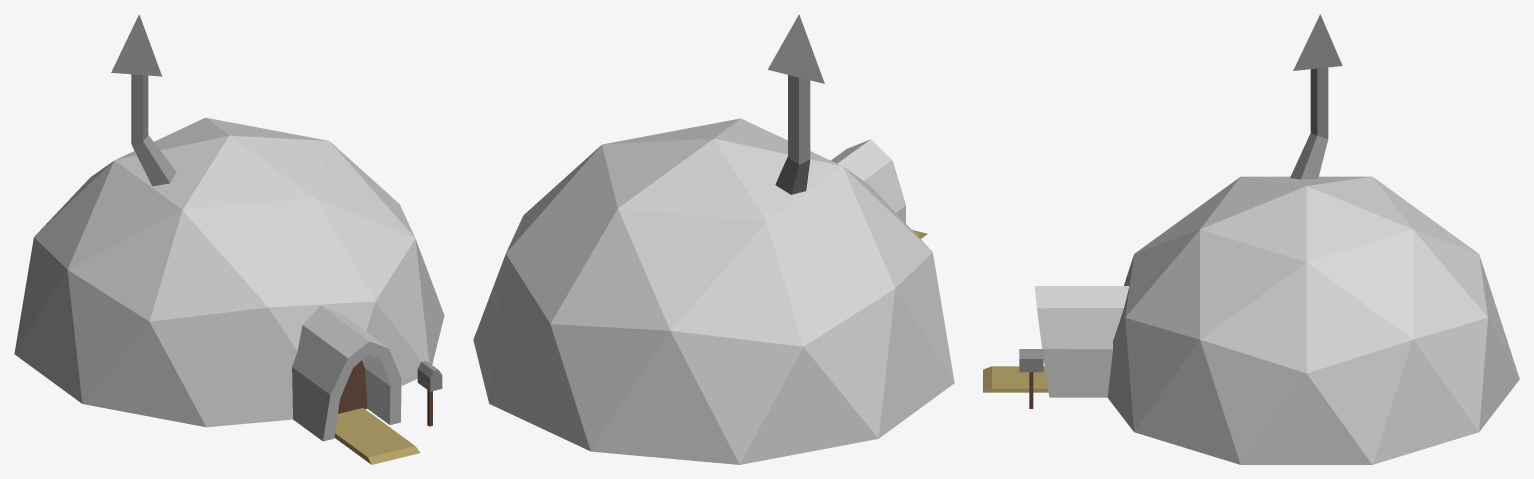
The model's file is Igloo.fbx.
The picture shows the model from 3 angles, left to right: view 1: azimuth 30°, elevation 25°; view 2: azimuth 150°, elevation 25°; view 3: azimuth 270°, elevation 25°; orthographic projection. The views are drawn at different scales.
Parts seen in each view (by area): view 1: Igloo, Mat, Mailbox; view 2: Igloo; view 3: Igloo, Mat, Mailbox.
Boxes of the visible parts, bbox=[...] form: Igloo: bbox=[14, 14, 444, 441]; Mat: bbox=[334, 408, 420, 464]; Mailbox: bbox=[417, 361, 442, 426]; Igloo: bbox=[473, 14, 954, 464]; Igloo: bbox=[1035, 14, 1519, 464]; Mat: bbox=[983, 366, 1048, 392]; Mailbox: bbox=[1019, 349, 1043, 408].
Size of the model in its own units: 190 by 170 by 252.
